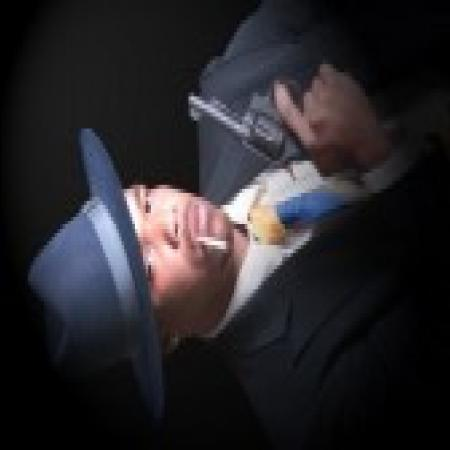Pistol: (182, 76, 396, 180)
